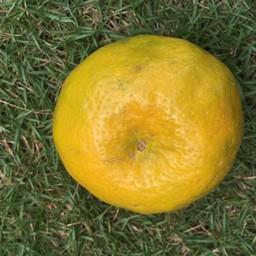Good_orange: (50, 25, 245, 216)
